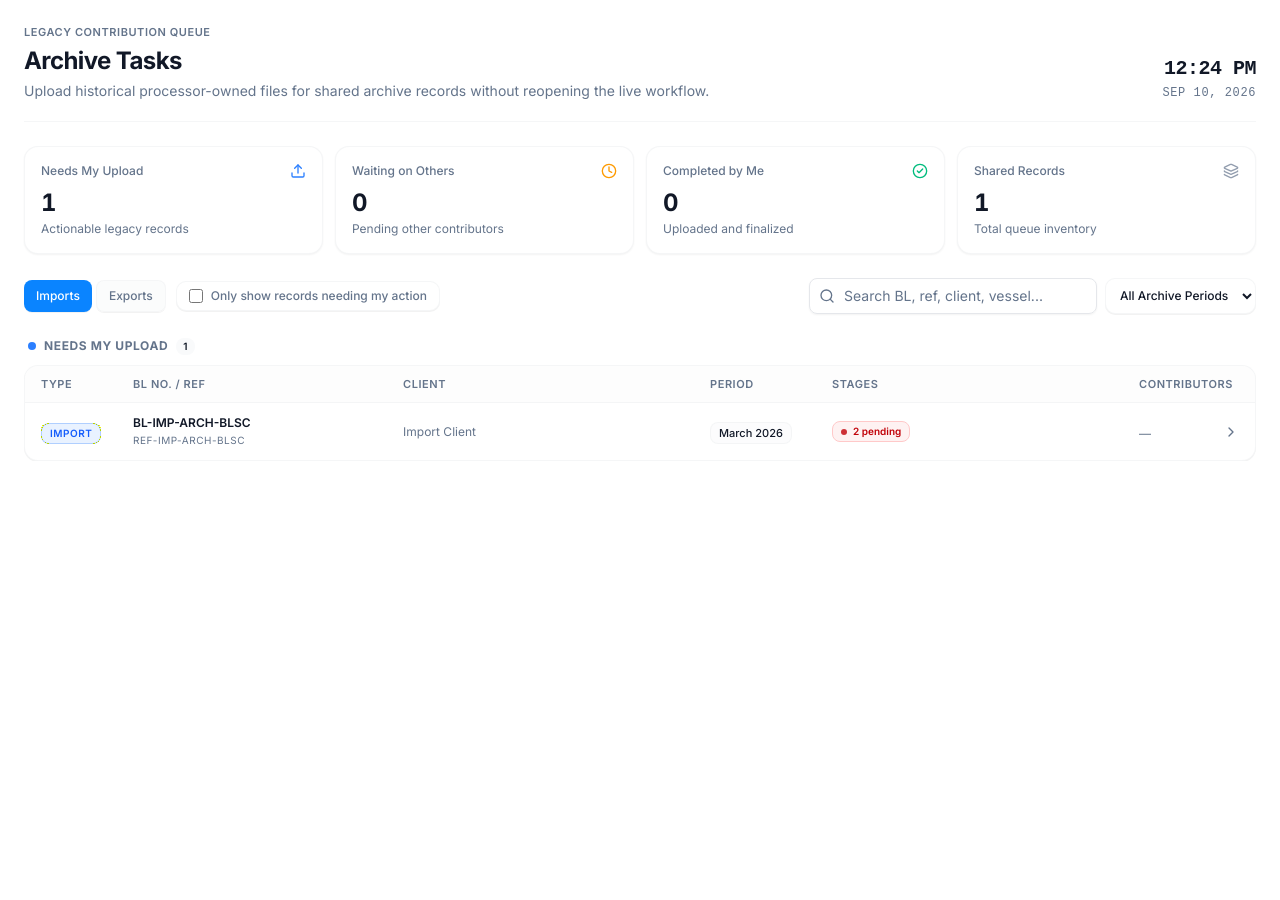
Test: ArchiveTaskPage › shows import selective color in the archive drawer instead of the queue row dot
The image size is (1280, 900).
Click the button "BL-IMP-ARCH-BLSC".
click(71, 434)  # box [25,403,1255,460]
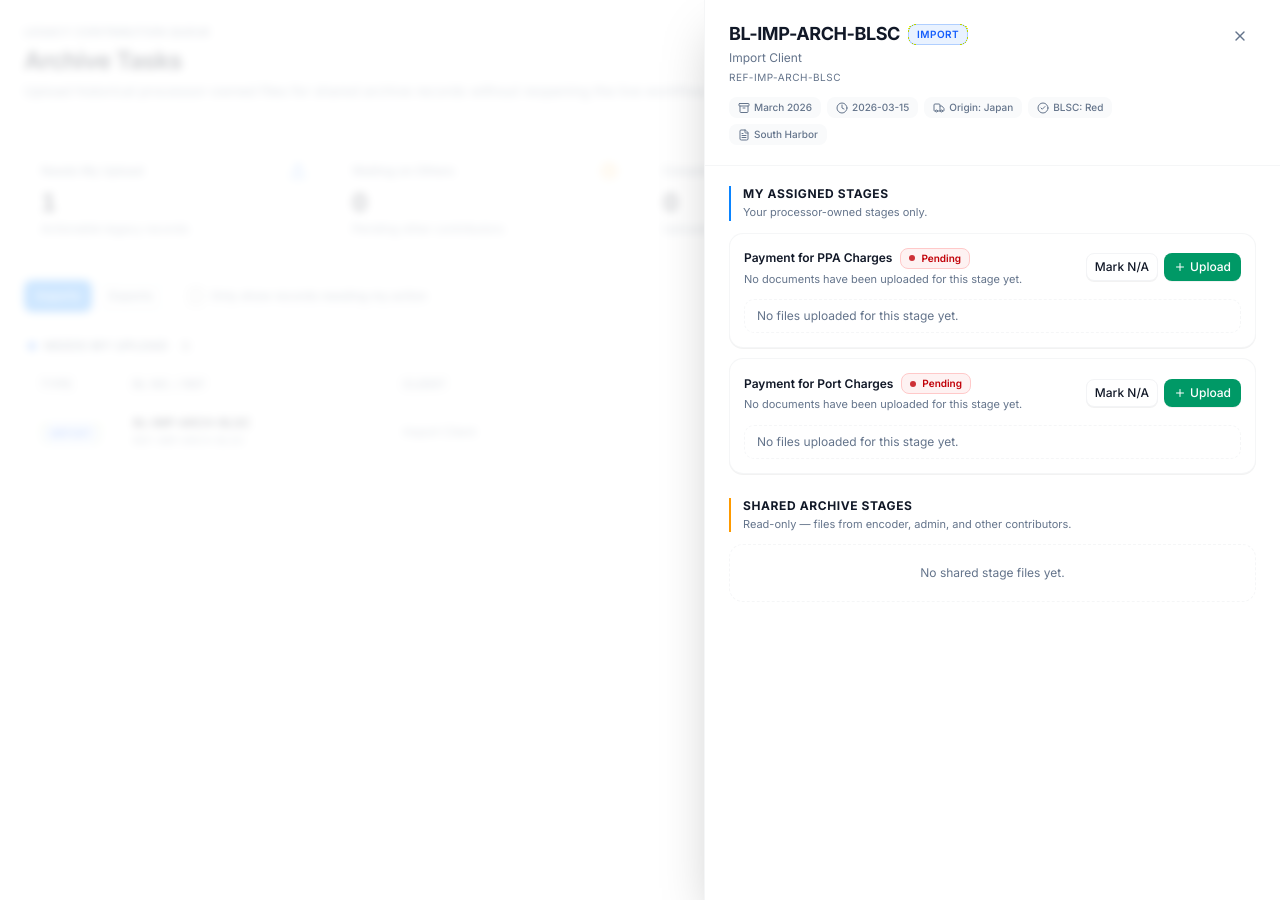
Check: the text "BLSC: Red" is shown, box [1028,97,1112,118]
